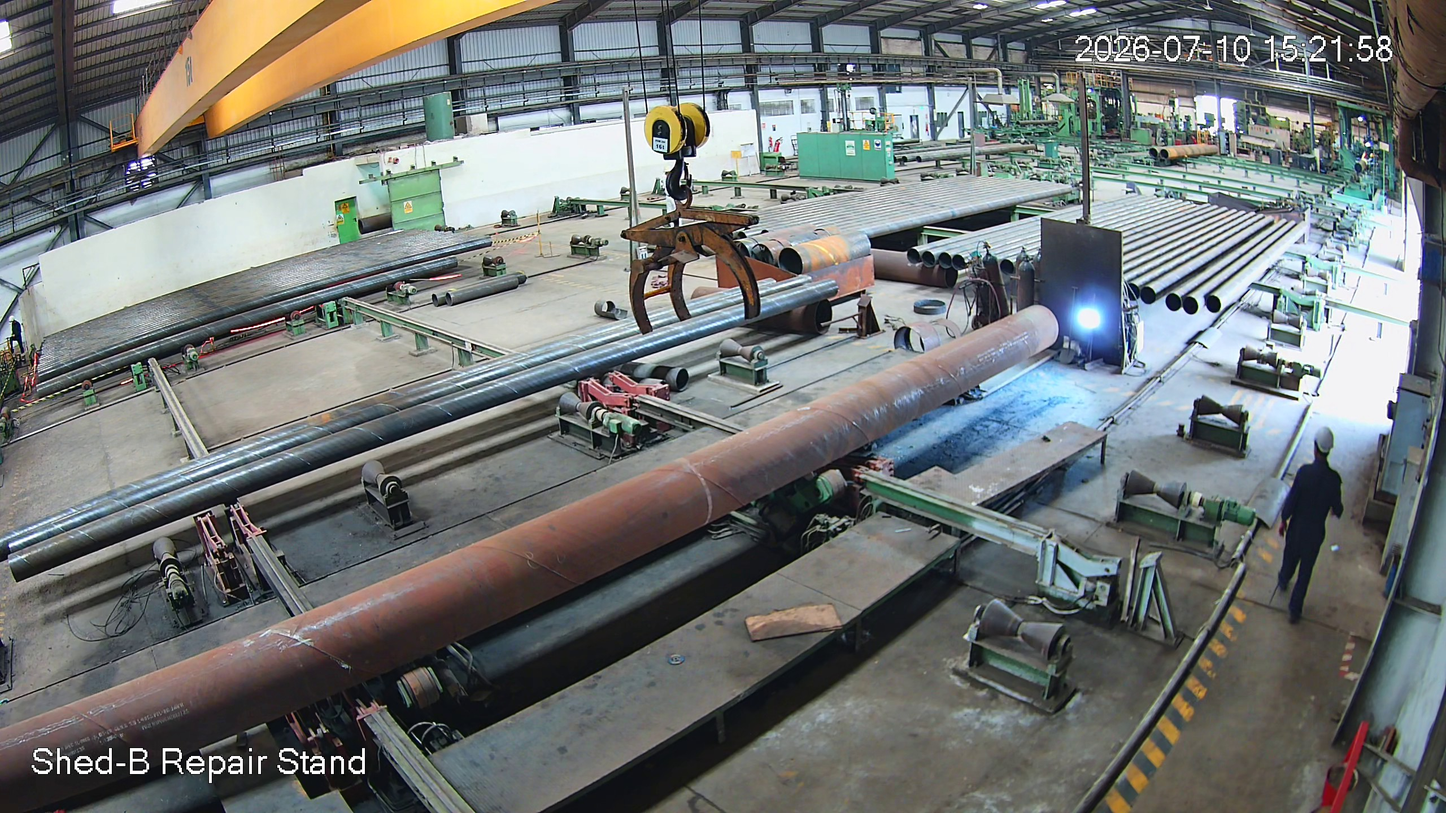Helmet: (1304, 420, 1338, 476)
Person: (1274, 430, 1350, 633)
